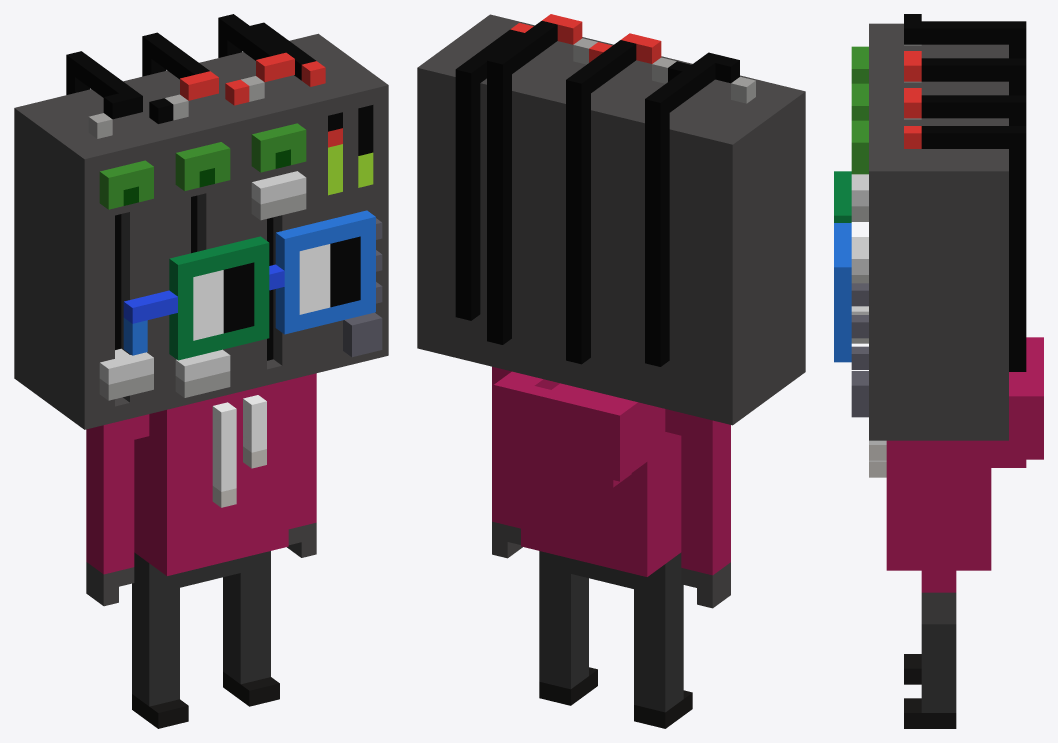
File: Mixer.gltf
3 views of the same model, side by side, from view 1: azimuth 30°, elevation 25°; view 2: azimuth 150°, elevation 25°; view 3: azimuth 270°, elevation 25° (orthographic). The views are drawn at different scales.
Parts seen in each view (by area): view 1: Head-Mixer, Body-Hoodie, Glasses5, Pants-DarkGrey1, Shoes-Black1; view 2: Head-Mixer, Body-Hoodie, Pants-DarkGrey1, Shoes-Black1; view 3: Head-Mixer, Body-Hoodie, Glasses5, Pants-DarkGrey1, Shoes-Black1.
Part boxes in pixels (bbox=[...]): Head-Mixer: bbox=[14, 14, 388, 606]; Body-Hoodie: bbox=[86, 373, 316, 575]; Glasses5: bbox=[123, 210, 375, 360]; Pants-DarkGrey1: bbox=[132, 551, 270, 706]; Shoes-Black1: bbox=[132, 671, 279, 728]; Head-Mixer: bbox=[417, 14, 805, 608]; Body-Hoodie: bbox=[492, 366, 730, 576]; Pants-DarkGrey1: bbox=[539, 551, 683, 712]; Shoes-Black1: bbox=[539, 667, 692, 728]; Head-Mixer: bbox=[851, 14, 1026, 624]; Body-Hoodie: bbox=[869, 337, 1043, 592]; Glasses5: bbox=[834, 171, 851, 362]; Pants-DarkGrey1: bbox=[921, 624, 956, 712]; Shoes-Black1: bbox=[904, 654, 956, 728].
Size of the model in its own units: 0.2 by 0.4 by 0.12.
Materials: 1 (1 with a texture image).
